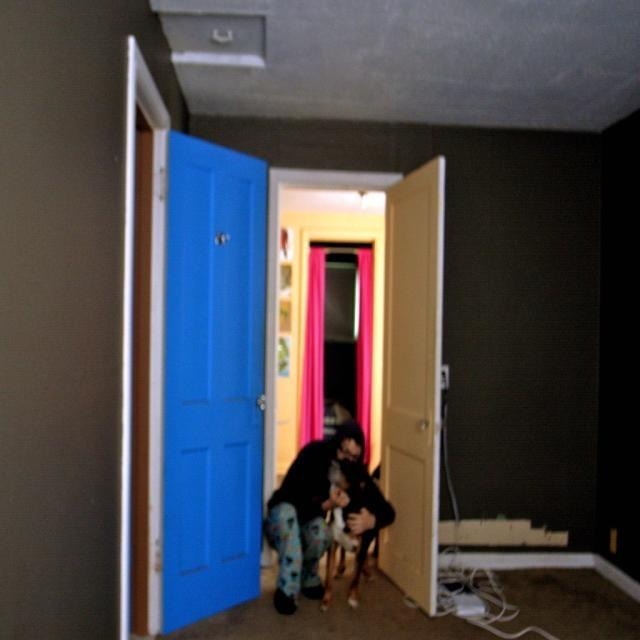door: (124, 31, 272, 640), (266, 158, 442, 608)
